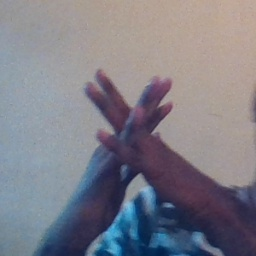W: (65, 60, 198, 217)
